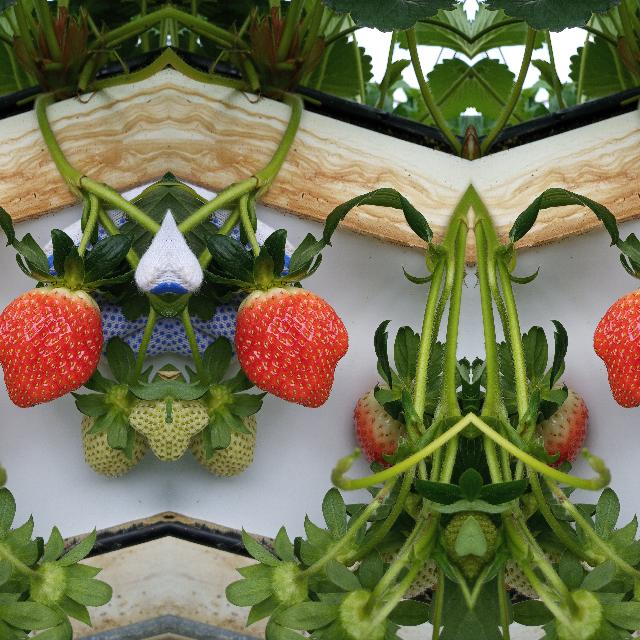Health_100: (234, 286, 348, 408), (0, 286, 102, 407), (592, 286, 640, 407)
Health_25: (187, 386, 261, 478), (75, 386, 149, 478)
Health_50: (530, 380, 588, 456), (354, 380, 411, 456)
